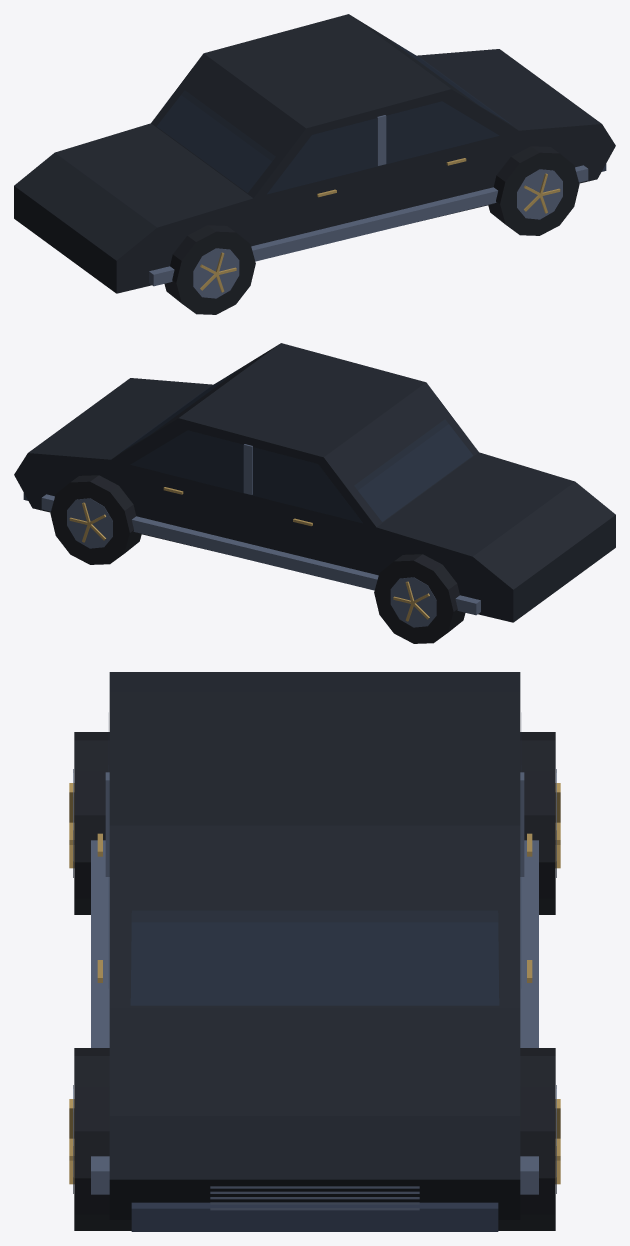
File: res_armored_limo.glb
3 renders of one model, top to bottom at view 1: azimuth 30°, elevation 25°; view 2: azimuth 150°, elevation 25°; view 3: azimuth 270°, elevation 25°, orthographic. The views are drawn at different scales.
Parts seen in each view (by area): view 1: faceted_armored_body, armored_side_window, armored_tyre, aero_wheel_hub, flush_door_handle; view 2: faceted_armored_body, armored_side_window, armored_tyre, aero_wheel_hub, flush_door_handle; view 3: faceted_armored_body, armored_side_window, armored_tyre, aero_wheel_hub, bumper, flush_door_handle.
Boxes of the visible parts, x1,y1,x2,y2 form: faceted_armored_body: (14, 14, 615, 293); armored_side_window: (157, 40, 511, 193); armored_tyre: (164, 146, 579, 314); aero_wheel_hub: (149, 115, 588, 298); flush_door_handle: (200, 158, 560, 292); faceted_armored_body: (14, 343, 615, 622); armored_side_window: (118, 369, 472, 522); armored_tyre: (50, 475, 465, 643); aero_wheel_hub: (41, 444, 480, 627); flush_door_handle: (69, 487, 429, 621); faceted_armored_body: (109, 672, 520, 1219); armored_side_window: (131, 911, 498, 1005); armored_tyre: (74, 732, 555, 1230); aero_wheel_hub: (73, 769, 556, 1210); bumper: (131, 1202, 498, 1231); flush_door_handle: (69, 783, 560, 1184).
Size of the model in its own units: 5.4 by 1.65 by 2.3.
